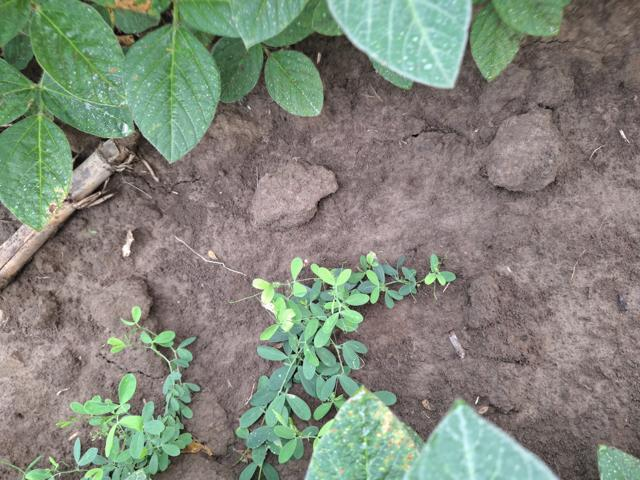bad weed: (224, 239, 472, 480), (0, 312, 220, 480)
